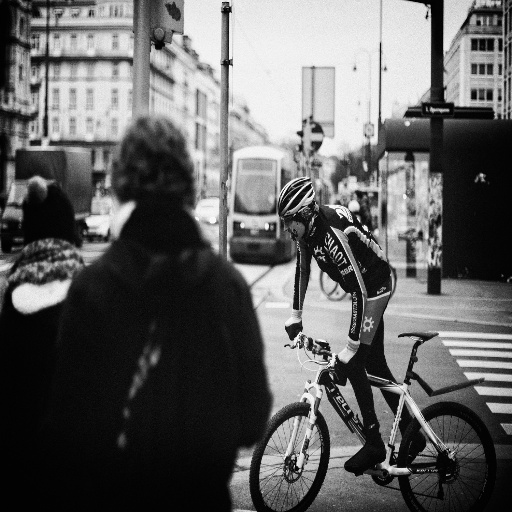hand: (282, 314, 304, 341), (335, 344, 357, 367)
